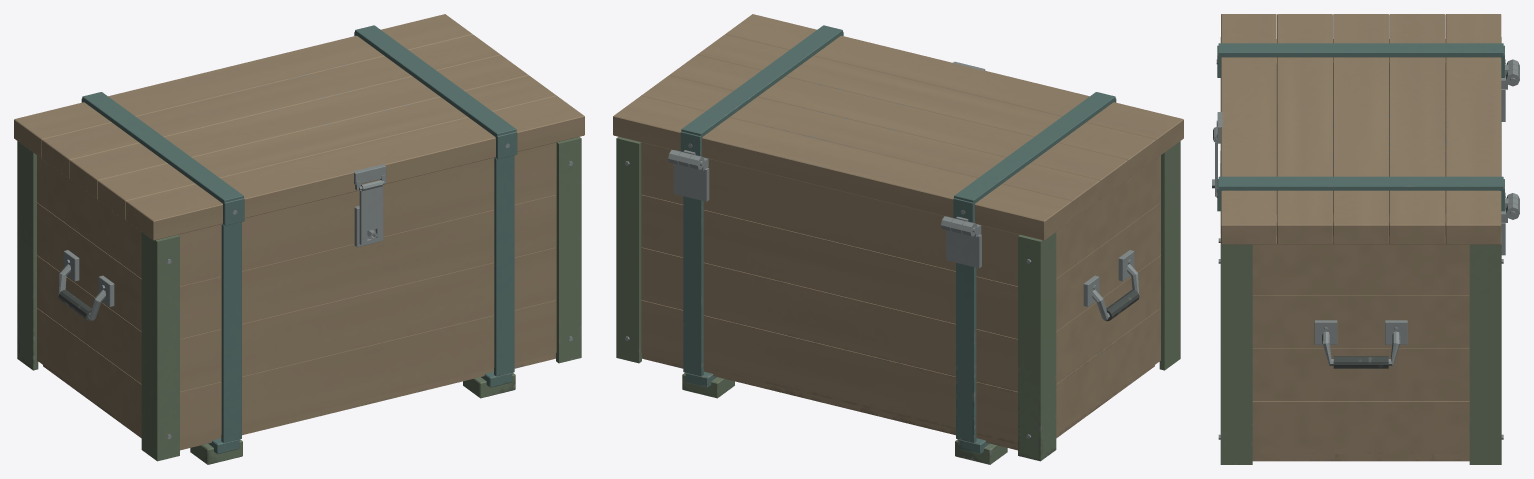
File: bunker_military_supply_crate_wood.glb
3 views of the same model, side by side, from view 1: azimuth 30°, elevation 25°; view 2: azimuth 150°, elevation 25°; view 3: azimuth 270°, elevation 25° (orthographic).
Visible parts, largest first — view 1: SupplyCrate; view 2: SupplyCrate; view 3: SupplyCrate.
Boxes of the visible parts, left/top/right/bottom form: SupplyCrate: left=14, top=14, right=584, bottom=464; SupplyCrate: left=613, top=14, right=1183, bottom=464; SupplyCrate: left=1212, top=14, right=1519, bottom=464.
Size of what is drawn, in the model's own units: 1.2 by 0.68 by 0.702.
1 material, 1 textured.
